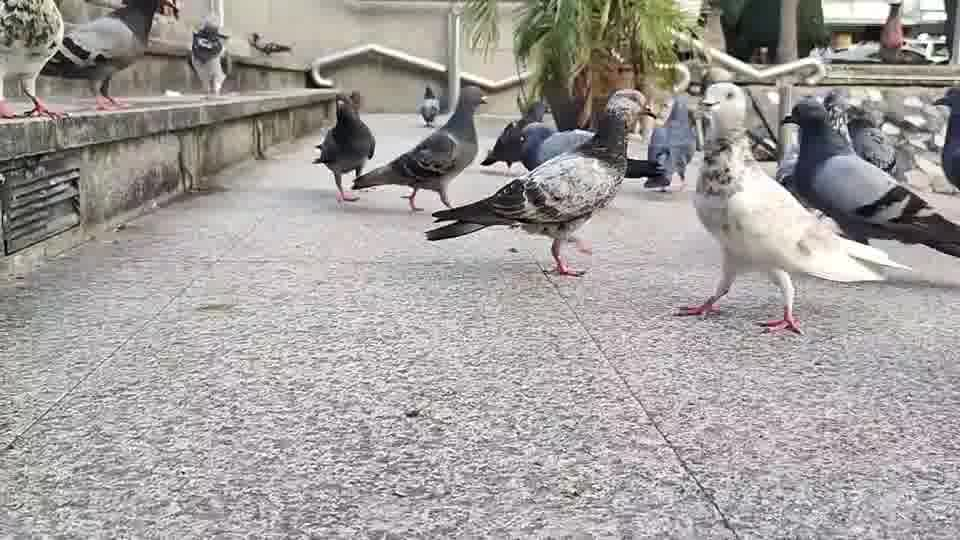Pigeon: (672, 82, 912, 335), (776, 95, 959, 259), (423, 145, 629, 277), (350, 84, 488, 212), (48, 0, 180, 111), (0, 0, 69, 121), (311, 91, 375, 208), (641, 94, 696, 192), (479, 97, 547, 172), (187, 14, 231, 96), (932, 85, 959, 191), (247, 31, 294, 56), (415, 85, 440, 127)
